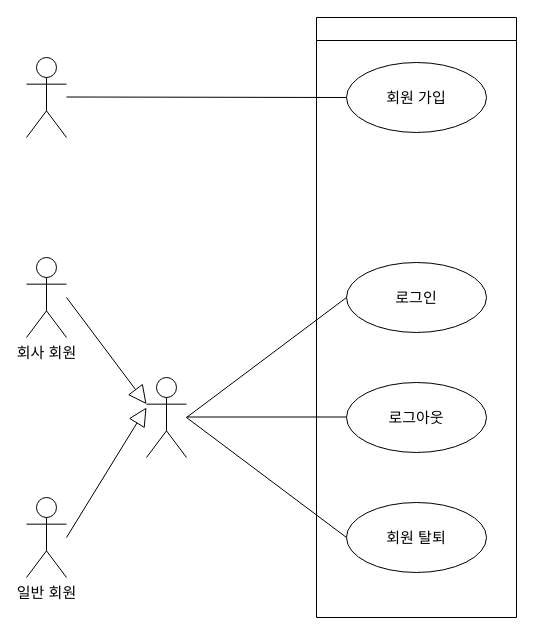
Some shapes in this 534 by 635 pixel diagram are drawn without their labels. Each missing label, with the centre of its shape:
사용자: (46,97)
회원: (166,417)
회원 인증 및 관리: (416,317)
